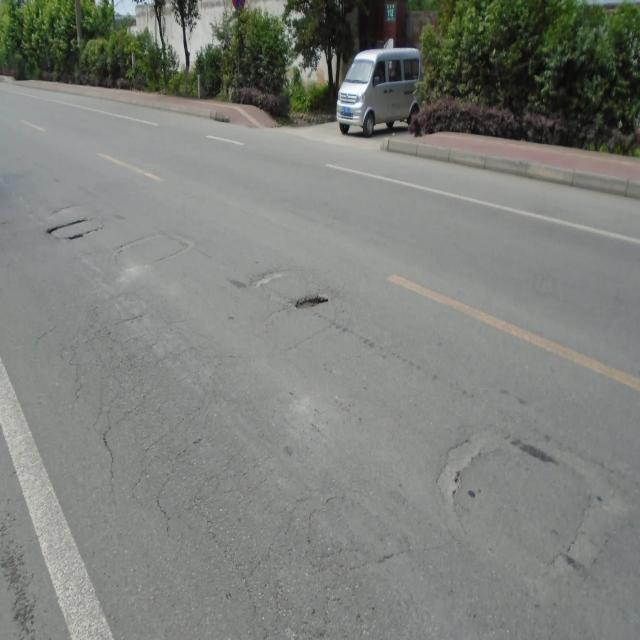Pothole: (447, 428, 607, 584), (109, 231, 194, 270), (42, 221, 104, 241), (251, 268, 285, 290), (294, 297, 334, 315)
